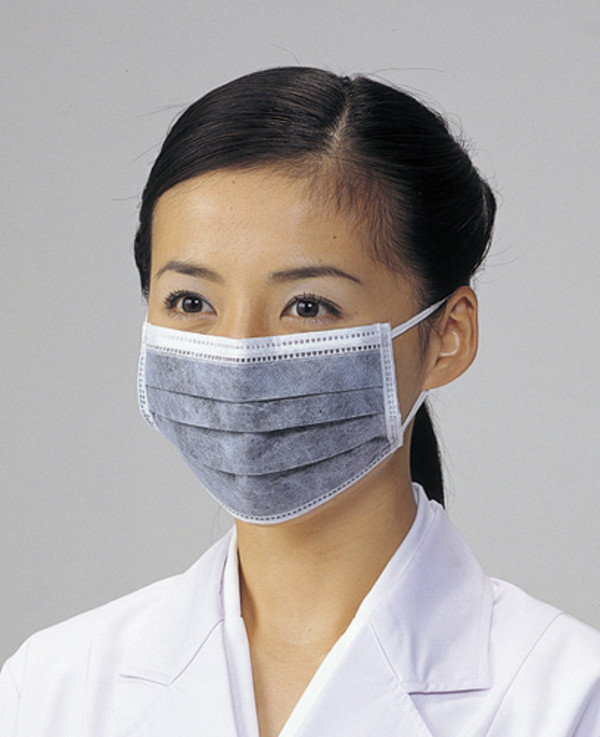face_mask: (145, 165, 410, 524)
